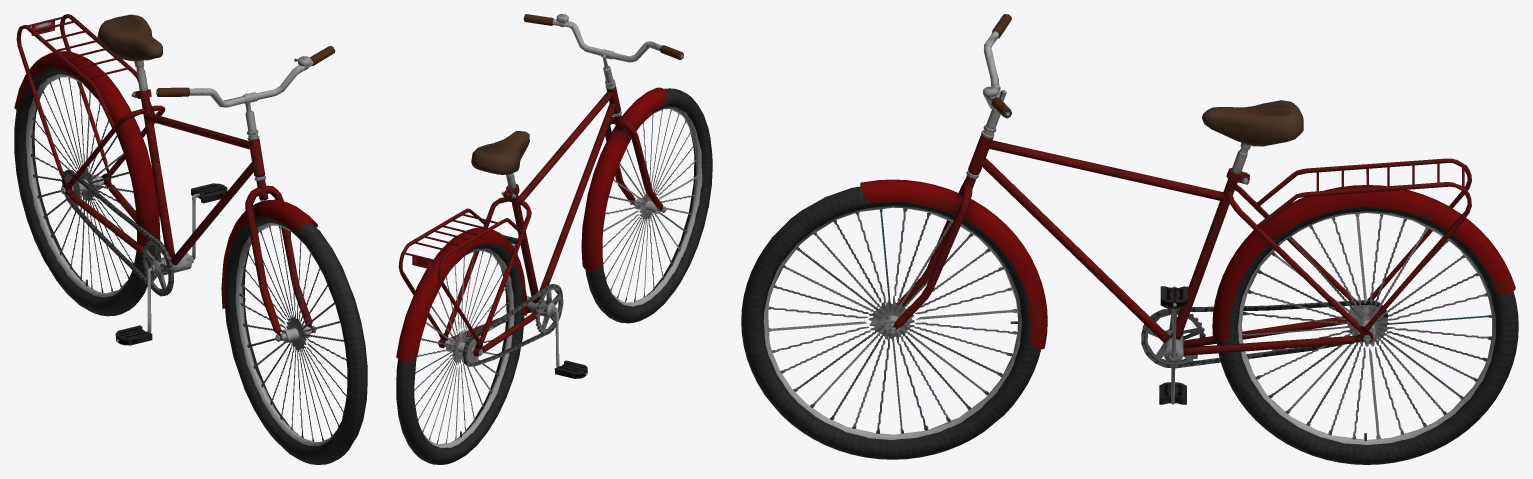
The model's file is bicycle.glb.
The picture shows the model from 3 angles, left to right: view 1: azimuth 30°, elevation 25°; view 2: azimuth 150°, elevation 25°; view 3: azimuth 270°, elevation 25°; orthographic projection. The views are drawn at different scales.
Visible parts, largest first — view 1: prop; view 2: prop; view 3: prop.
Part boxes in pixels (x1,y1,x2,y2): prop: (14, 14, 367, 464); prop: (396, 14, 712, 464); prop: (741, 14, 1518, 464).
Size of the model in its own units: 0.5444 by 1.05 by 1.83.
Materials: 1 (1 with a texture image).
